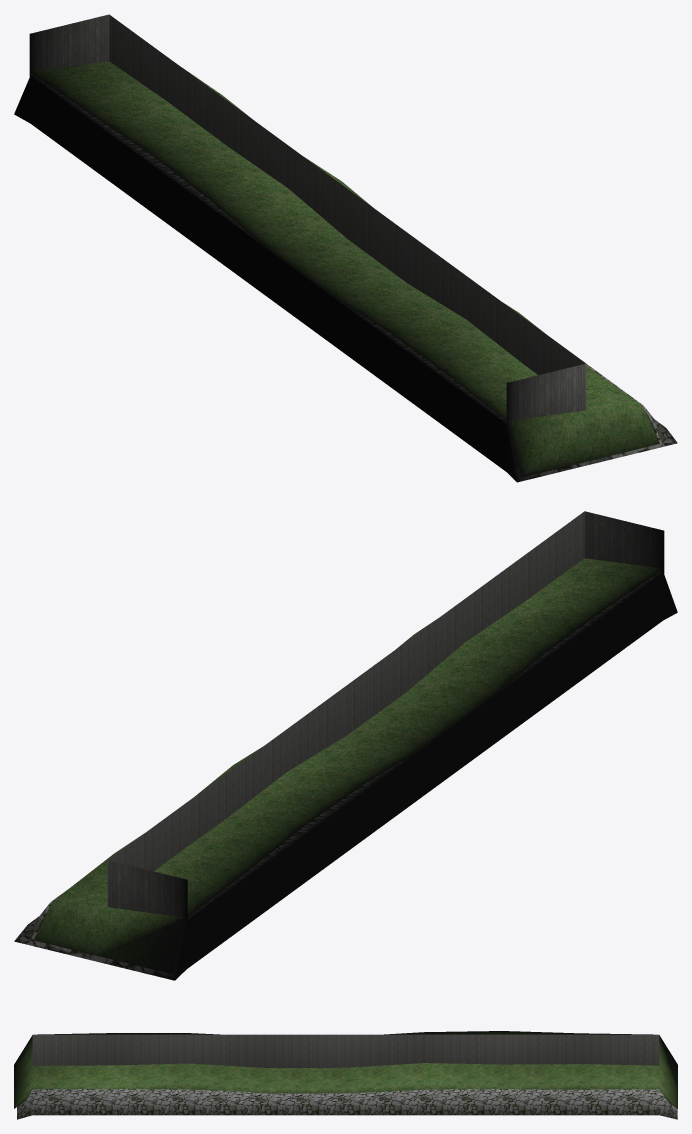
Rendered from KH_RIGHT_AMB_100.glb.
3 renders of one model, top to bottom at view 1: azimuth 30°, elevation 25°; view 2: azimuth 150°, elevation 25°; view 3: azimuth 270°, elevation 25°, orthographic. The views are drawn at different scales.
Visible parts, largest first — view 1: obj6; view 2: obj6; view 3: obj6.
Boxes of the visible parts, box(x1,y1,x2,y2) form: obj6: box(14, 14, 677, 482); obj6: box(14, 511, 677, 980); obj6: box(14, 1031, 677, 1119).
Size of the model in its own units: 19.49 by 10.46 by 106.
Materials: 3 (3 with a texture image).
